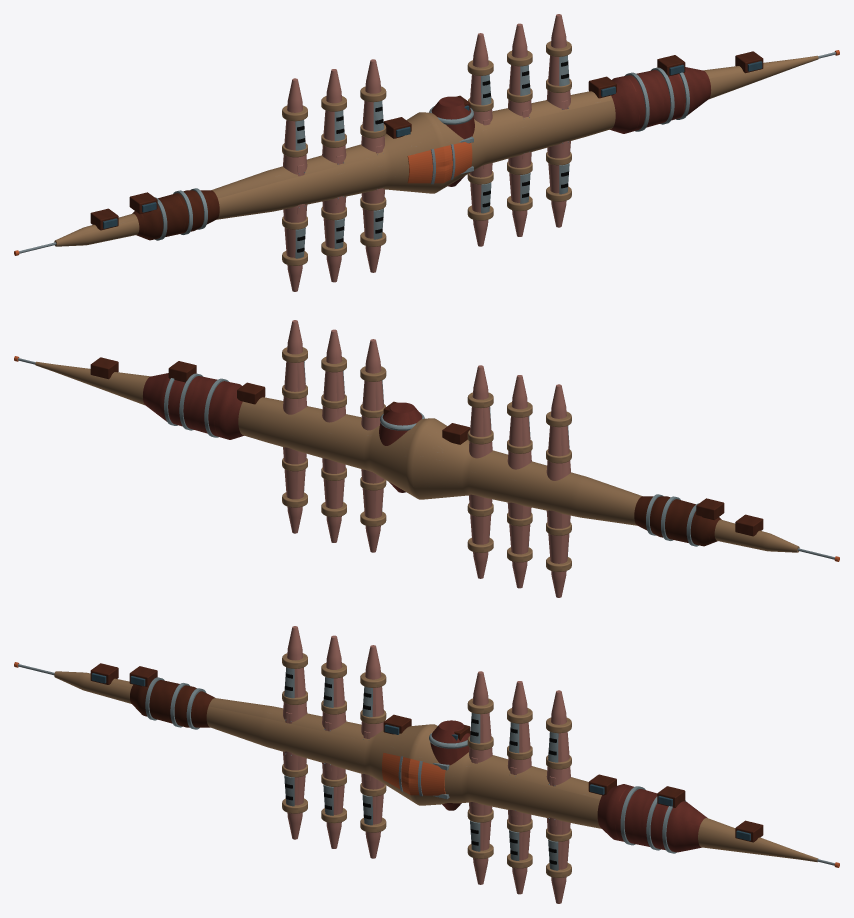
3 views of the same model, one above another, from view 1: azimuth 30°, elevation 25°; view 2: azimuth 150°, elevation 25°; view 3: azimuth 330°, elevation 25° (orthographic).
Parts seen in each view (by area): view 1: Shipyard axial spine, AC3C broad axial service module 1, AC3C broad axial service module 0, Shipyard vertical segment 0, Shipyard vertical segment 5, Shipyard vertical segment 1, Shipyard central orange field, Shipyard vertical segment 4, Shipyard vertical segment 2, Shipyard vertical segment 3, AC3C central rounded equipment module; view 2: Shipyard axial spine, AC3C broad axial service module 1, Shipyard vertical segment 0, Shipyard vertical segment 1, Shipyard vertical segment 5, AC3C broad axial service module 0, Shipyard vertical segment 2, Shipyard vertical segment 4, Shipyard vertical segment 3, AC3C central rounded equipment module; view 3: Shipyard axial spine, AC3C broad axial service module 1, AC3C broad axial service module 0, Shipyard vertical segment 0, Shipyard vertical segment 5, Shipyard vertical segment 1, Shipyard vertical segment 4, Shipyard central orange field, Shipyard vertical segment 3, Shipyard vertical segment 2, AC3C central rounded equipment module.
Part boxes in pixels (<box>): Shipyard axial spine: <box>54,55,818,246</box>; AC3C broad axial service module 1: <box>610,67,710,133</box>; AC3C broad axial service module 0: <box>132,190,219,240</box>; Shipyard vertical segment 0: <box>283,78,307,291</box>; Shipyard vertical segment 5: <box>547,14,570,227</box>; Shipyard vertical segment 1: <box>322,69,346,282</box>; Shipyard central orange field: <box>407,142,472,183</box>; Shipyard vertical segment 4: <box>508,23,531,236</box>; Shipyard vertical segment 2: <box>361,59,384,272</box>; Shipyard vertical segment 3: <box>469,33,492,246</box>; AC3C central rounded equipment module: <box>431,96,474,186</box>; Shipyard axial spine: <box>35,361,799,552</box>; AC3C broad axial service module 1: <box>143,373,243,439</box>; Shipyard vertical segment 0: <box>546,384,570,597</box>; Shipyard vertical segment 1: <box>507,375,531,588</box>; Shipyard vertical segment 5: <box>283,320,306,533</box>; AC3C broad axial service module 0: <box>634,496,721,546</box>; Shipyard vertical segment 2: <box>469,365,492,578</box>; Shipyard vertical segment 4: <box>322,329,345,542</box>; Shipyard vertical segment 3: <box>361,339,384,552</box>; AC3C central rounded equipment module: <box>379,402,422,492</box>; Shipyard axial spine: <box>54,671,818,862</box>; AC3C broad axial service module 1: <box>597,784,707,852</box>; AC3C broad axial service module 0: <box>130,680,214,727</box>; Shipyard vertical segment 0: <box>283,626,307,839</box>; Shipyard vertical segment 5: <box>546,690,570,903</box>; Shipyard vertical segment 1: <box>322,635,346,848</box>; Shipyard vertical segment 4: <box>507,681,531,894</box>; Shipyard central orange field: <box>382,752,445,795</box>; Shipyard vertical segment 3: <box>469,671,492,884</box>; Shipyard vertical segment 2: <box>361,645,384,858</box>; AC3C central rounded equipment module: <box>430,720,470,810</box>.
Bounding box in the file's own units: 8.43 × 2.06 × 0.6451.
10 materials, 7 textured.
